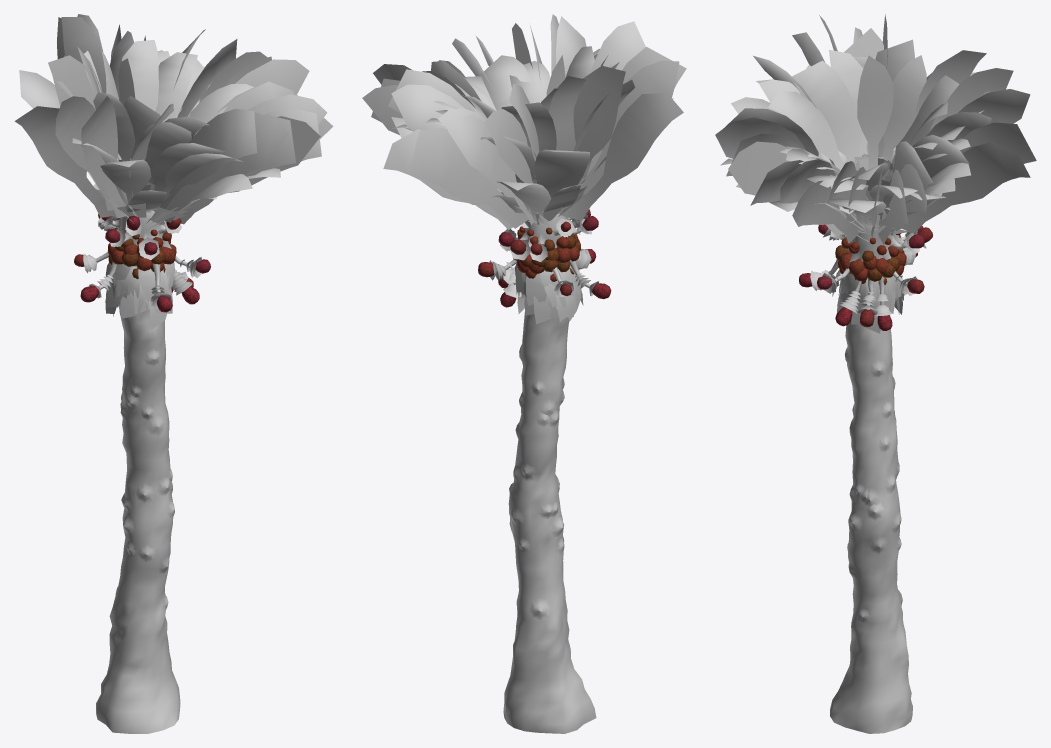
File: Tree6_1.fbx
The picture shows the model from 3 angles, left to right: view 1: azimuth 30°, elevation 25°; view 2: azimuth 150°, elevation 25°; view 3: azimuth 270°, elevation 25°; orthographic projection.
Visible parts, largest first — view 1: polySurface21; view 2: polySurface21; view 3: polySurface21.
Part boxes in pixels (box(x1,y1,x2,y2)): polySurface21: box(14, 14, 333, 733); polySurface21: box(362, 14, 686, 733); polySurface21: box(715, 14, 1036, 733).
Size of the model in its own units: 671 by 1418 by 626.
